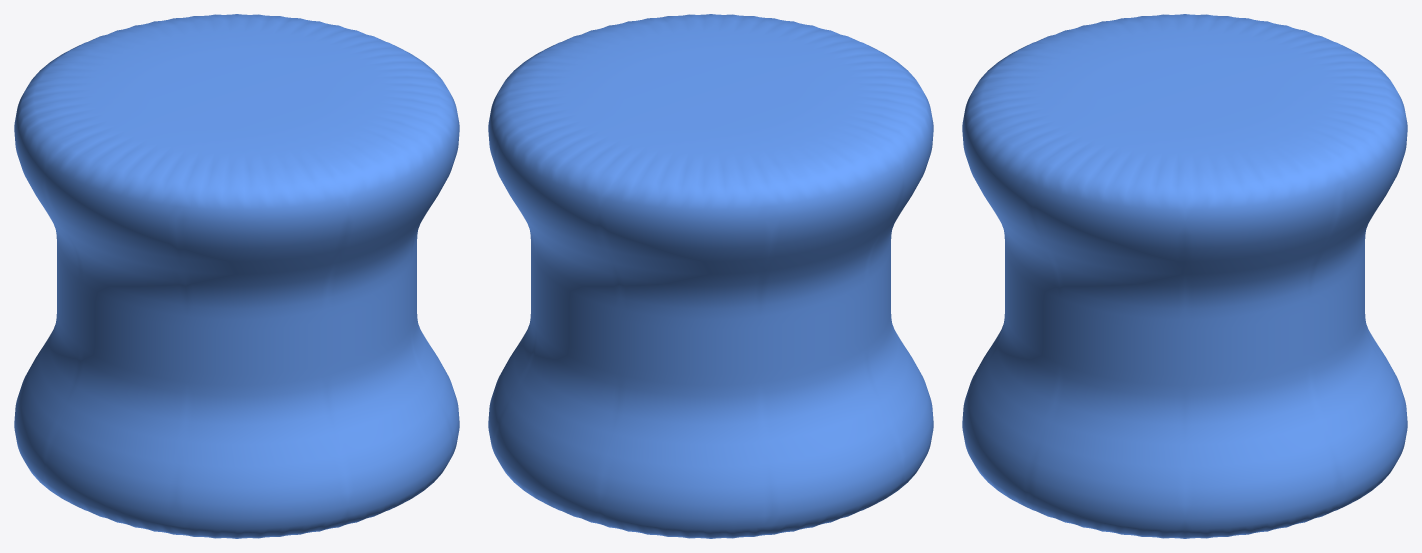
File: bobbin.obj
3 renders of one model, left to right at view 1: azimuth 30°, elevation 25°; view 2: azimuth 150°, elevation 25°; view 3: azimuth 270°, elevation 25°, orthographic.
Parts seen in each view (by area): view 1: bobbin.obj; view 2: bobbin.obj; view 3: bobbin.obj.
Boxes of the visible parts, x1,y1,x2,y2 form: bobbin.obj: (14, 14, 459, 538); bobbin.obj: (488, 14, 933, 538); bobbin.obj: (962, 14, 1407, 538).
Size of the model in its own units: 0.9925 by 0.91 by 0.9925.
